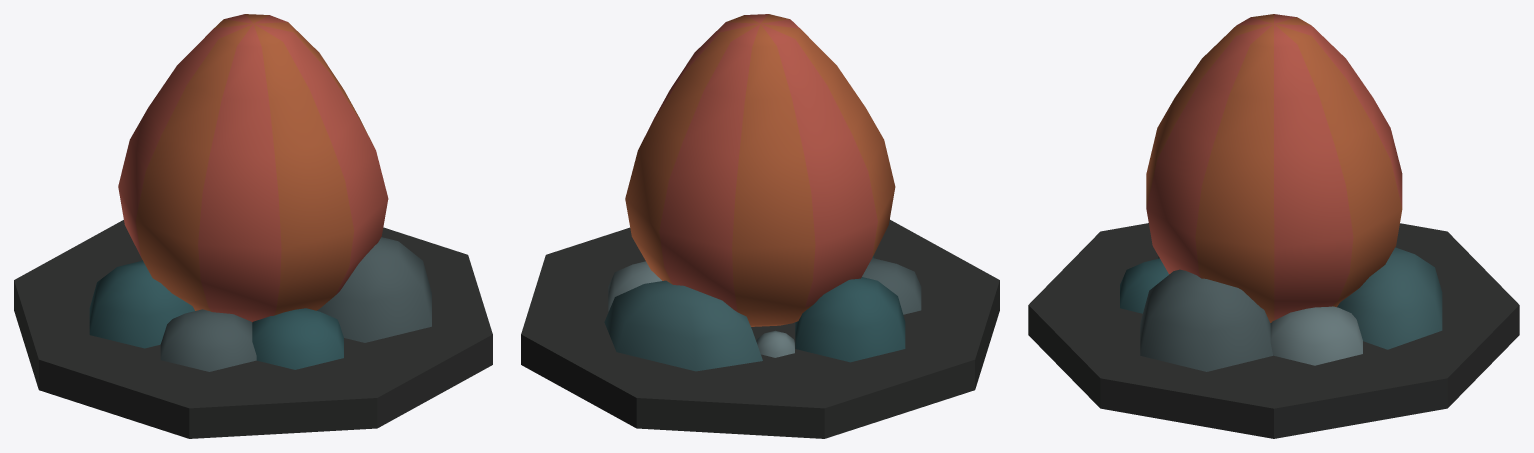
Rendered from Dragon_Egg.fbx.
The picture shows the model from 3 angles, left to right: view 1: azimuth 30°, elevation 25°; view 2: azimuth 150°, elevation 25°; view 3: azimuth 270°, elevation 25°; orthographic projection.
Parts seen in each view (by area): view 1: Dragon_Egg; view 2: Dragon_Egg; view 3: Dragon_Egg.
Part boxes in pixels (x1,y1,x2,y2): Dragon_Egg: [14, 14, 492, 438]; Dragon_Egg: [521, 14, 999, 438]; Dragon_Egg: [1028, 14, 1519, 438].
Bounding box in the file's own units: 0.5936 × 0.415 × 0.5936.
